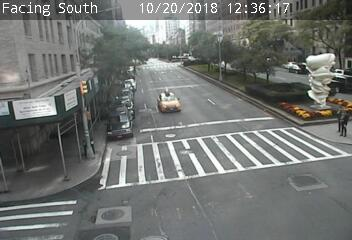car: (157, 91, 181, 112)
